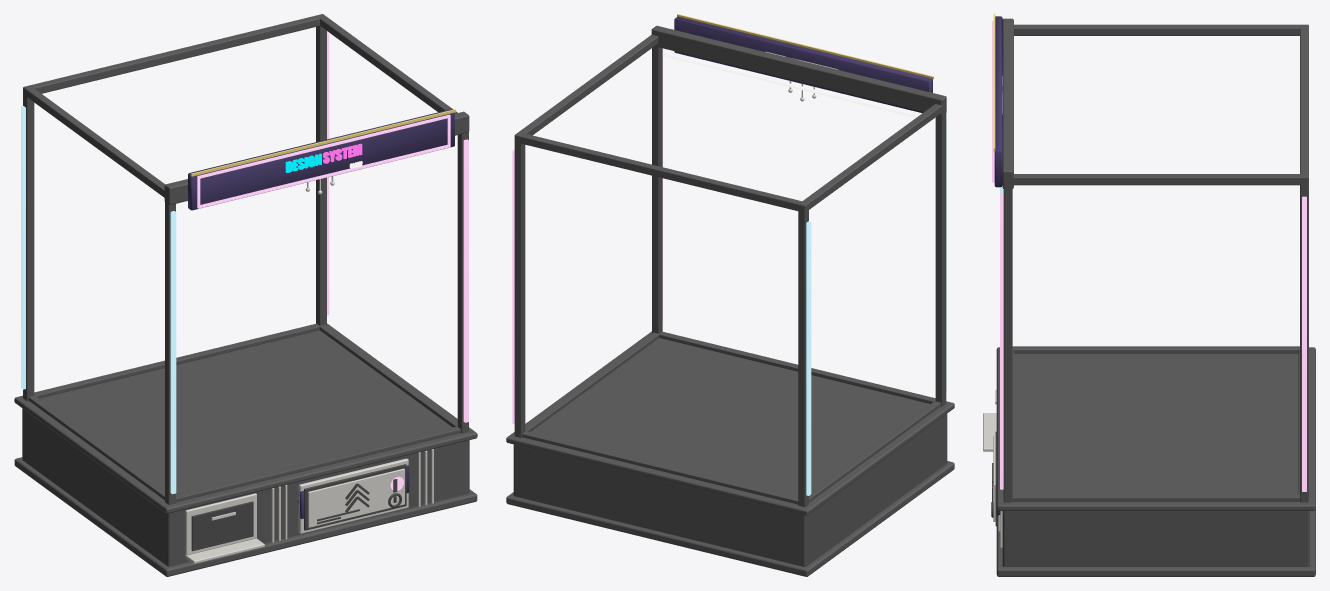
File: claw-cabinet.glb
3 views of the same model, side by side, from view 1: azimuth 30°, elevation 25°; view 2: azimuth 150°, elevation 25°; view 3: azimuth 270°, elevation 25° (orthographic). The views are drawn at different scales.
Parts seen in each view (by area): view 1: cabinet, deco_foil, deco_broadsheet; view 2: cabinet, deco_foil; view 3: cabinet, deco_foil, deco_broadsheet.
Part boxes in pixels (bbox=[...]): cabinet: bbox=[14, 14, 477, 576]; deco_foil: bbox=[21, 32, 468, 518]; deco_broadsheet: bbox=[211, 176, 433, 542]; cabinet: bbox=[506, 25, 954, 576]; deco_foil: bbox=[512, 14, 946, 495]; cabinet: bbox=[983, 18, 1315, 576]; deco_foil: bbox=[992, 14, 1306, 515]; deco_broadsheet: bbox=[991, 76, 1002, 547].
Bounding box in the file's own units: 6.6 × 8.08 × 5.84.
